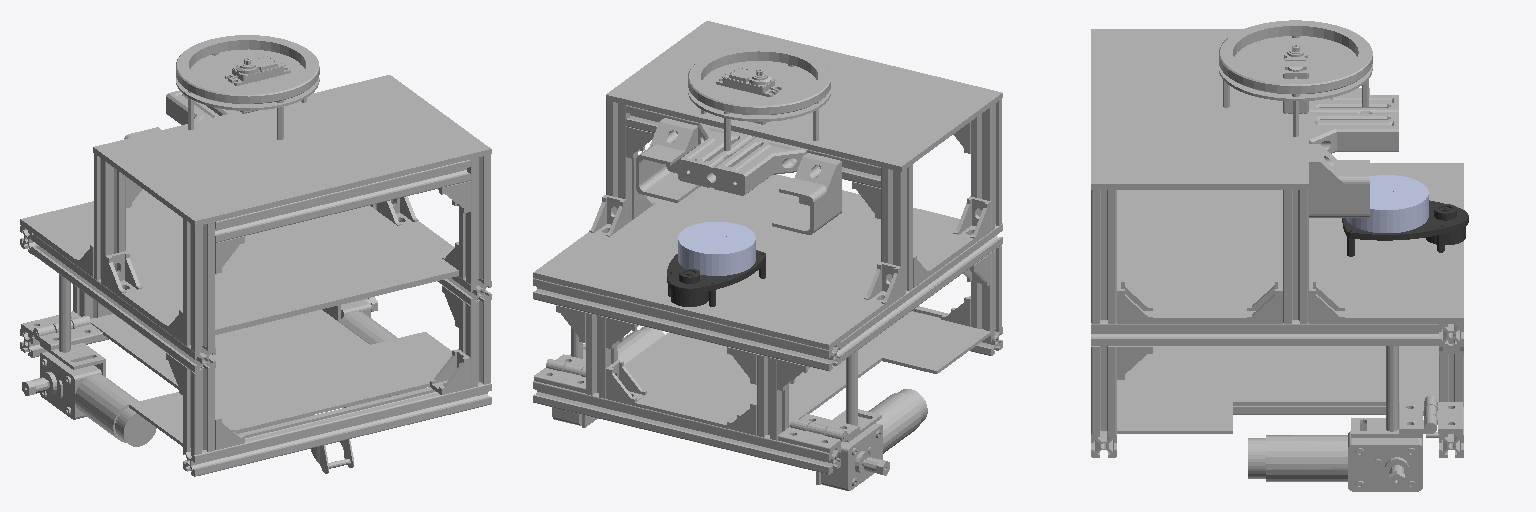
URDF robot description (tf_urdf2):
<?xml version="1.0" encoding="utf-8"?>
<!-- This URDF was automatically created by SolidWorks to URDF Exporter! Originally created by Stephen Brawner ([email redacted]) 
     Commit Version: 1.6.0-4-g7f85cfe  Build Version: 1.6.7995.38578
     For more information, please see http://wiki.ros.org/sw_urdf_exporter -->
<robot
  name="tf_urdf2">
  <link name="base_footprint"/>
  <joint name="base_joint" type="fixed">
    <parent link="base_footprint"/>
    <child link="base_link"/>
    <origin xyz="-1.23025786656509E-12 5.18846734977975E-12 7.17791849942659E-12" rpy="0 0 0" />
  </joint>
  <link
    name="base_link">
    <inertial>
      <origin
        xyz="-1.23025786656509E-12 5.18846734977975E-12 7.17791849942659E-12"
        rpy="0 0 0" />
      <mass
        value="2.12847235416398" />
      <inertia
        ixx="0.00568558429631298"
        ixy="1.5266709730259E-09"
        ixz="-5.06469082751148E-08"
        iyy="0.00660980095473277"
        iyz="-5.49851563305515E-06"
        izz="0.0118606210877818" />
    </inertial>
    <visual>
      <origin
        xyz="0 0 0"
        rpy="0 0 0" />
      <geometry>
        <mesh
          filename="package://tf_urdf2/meshes/base_link.STL" />
      </geometry>
      <material
        name="">
        <color
          rgba="0.752941176470588 0.752941176470588 0.752941176470588 1" />
      </material>
    </visual>
    <collision>
      <origin
        xyz="0 0 0"
        rpy="0 0 0" />
      <geometry>
        <mesh
          filename="package://tf_urdf2/meshes/base_link.STL" />
      </geometry>
    </collision>
  </link>
  <link
    name="base_laser_link">
    <inertial>
      <origin
        xyz="0.00287209394668812 -0.000171439245075351 -4.24955752011125E-15"
        rpy="0 0 0" />
      <mass
        value="0.368367374305662" />
      <inertia
        ixx="9.68293322754369E-05"
        ixy="1.45421516435213E-05"
        ixz="-1.17442257422505E-20"
        iyy="0.000356470305894242"
        iyz="-6.52735196393128E-21"
        izz="0.000276008992523265" />
    </inertial>
    <visual>
      <origin
        xyz="0 0 0"
        rpy="0 0 0" />
      <geometry>
        <mesh
          filename="package://tf_urdf2/meshes/base_laser_link.STL" />
      </geometry>
      <material
        name="">
        <color
          rgba="0.298039215686275 0.298039215686275 0.298039215686275 1" />
      </material>
    </visual>
    <collision>
      <origin
        xyz="0 0 0"
        rpy="0 0 0" />
      <geometry>
        <mesh
          filename="package://tf_urdf2/meshes/base_laser_link.STL" />
      </geometry>
    </collision>
  </link>
  <joint
    name="base_laser_joint"
    type="fixed">
    <origin
      xyz="-0.000131363742770744 0.0960941115400787 0.0268121154387293"
      rpy="1.5707963267949 0 1.5707963267949" />
    <parent
      link="base_link" />
    <child
      link="base_laser_link" />
    <axis
      xyz="0 0 0" />
  </joint>
  <link
    name="laser_link">
    <inertial>
      <origin
        xyz="6.27969898303604E-15 0.00994901655834555 5.59968738045313E-15"
        rpy="0 0 0" />
      <mass
        value="0.0660277715680958" />
      <inertia
        ixx="1.96156877893573E-05"
        ixy="2.30712697514792E-21"
        ixz="3.3881317890172E-21"
        iyy="3.48742138584865E-05"
        iyz="2.55774068988361E-21"
        izz="1.96156117763069E-05" />
    </inertial>
    <visual>
      <origin
        xyz="0 0 0"
        rpy="0 0 0" />
      <geometry>
        <mesh
          filename="package://tf_urdf2/meshes/laser_link.STL" />
      </geometry>
      <material
        name="">
        <color
          rgba="0.792156862745098 0.819607843137255 0.933333333333333 1" />
      </material>
    </visual>
    <collision>
      <origin
        xyz="0 0 0"
        rpy="0 0 0" />
      <geometry>
        <mesh
          filename="package://tf_urdf2/meshes/laser_link.STL" />
      </geometry>
    </collision>
  </link>
  <joint
    name="laser_joint"
    type="continuous">
    <origin
      xyz="-0.01425 0.00499999999999998 0"
      rpy="3.14159265358979 0.841141811649931 3.14159265358979" />
    <parent
      link="base_laser_link" />
    <child
      link="laser_link" />
    <axis
      xyz="0 1 0" />
  </joint>
  <!--<link
    name="camera_link">
    <inertial>
      <origin
        xyz="-3.59641705078968E-06 -8.99346677352003E-05 -0.0199626938778014"
        rpy="0 0 0" />
      <mass
        value="0.182998721477312" />
      <inertia
        ixx="3.5992273823816E-05"
        ixy="2.02108915234498E-09"
        ixz="4.50592861470096E-08"
        iyy="0.000405203076956735"
        iyz="4.47034923597135E-08"
        izz="0.000396282425929481" />
    </inertial>
    <visual>
      <origin
        xyz="0 0 0"
        rpy="0 0 0" />
      <geometry>
        <mesh
          filename="package://tf_urdf2/meshes/camera_link.STL" />
      </geometry>
      <material
        name="">
        <color
          rgba="0.752941176470588 0.752941176470588 0.752941176470588 1" />
      </material>
    </visual>
    <collision>
      <origin
        xyz="0 0 0"
        rpy="0 0 0" />
      <geometry>
        <mesh
          filename="package://tf_urdf2/meshes/camera_link.STL" />
      </geometry>
    </collision>
  </link>
  <joint
    name="camera_joint"
    type="fixed">
    <origin
      xyz="-0.000131363742774914 0.0638441115400772 0.0858121154387287"
      rpy="1.5707963267949 0 3.14159265358979" />
    <parent
      link="base_link" />
    <child
      link="camera_link" />
    <axis
      xyz="0 0 0" />
  </joint>
  <link
    name="left_wheel_link">
    <inertial>
      <origin
        xyz="-0.0150496497452622 -1.96331145785322E-12 2.77555756156289E-16"
        rpy="0 0 0" />
      <mass
        value="0.0895053073671552" />
      <inertia
        ixx="0.000104006422478187"
        ixy="7.89419753183192E-16"
        ixz="4.3658717399168E-20"
        iyy="5.80082032825445E-05"
        iyz="9.78351853198924E-16"
        izz="5.80082032677947E-05" />
    </inertial>
    <visual>
      <origin
        xyz="0 0 0"
        rpy="0 0 0" />
      <geometry>
        <mesh
          filename="package://tf_urdf2/meshes/left_wheel_link.STL" />
      </geometry>
      <material
        name="">
        <color
          rgba="0.250980392156863 0.250980392156863 0.250980392156863 1" />
      </material>
    </visual>
    <collision>
      <origin
        xyz="0 0 0"
        rpy="0 0 0" />
      <geometry>
        <mesh
          filename="package://tf_urdf2/meshes/left_wheel_link.STL" />
      </geometry>
    </collision>
  </link>
  <joint
    name="left_wheel_joint"
    type="continuous">
    <origin
      xyz="-0.154631363742771 0.0895941115400787 -0.11818788456127"
      rpy="0.848490512040727 0 0" />
    <parent
      link="base_link" />
    <child
      link="left_wheel_link" />
    <axis
      xyz="1 0 0" />
  </joint>
  <link
    name="right_wheel_link">
    <inertial>
      <origin
        xyz="-0.0150496497452583 -1.9614865287565E-12 -1.24206200879939E-15"
        rpy="0 0 0" />
      <mass
        value="0.0895053073671553" />
      <inertia
        ixx="0.000104006422478187"
        ixy="7.89524586002435E-16"
        ixz="-4.26639638785426E-20"
        iyy="5.80082032825446E-05"
        iyz="9.78333218474084E-16"
        izz="5.80082032677947E-05" />
    </inertial>
    <visual>
      <origin
        xyz="0 0 0"
        rpy="0 0 0" />
      <geometry>
        <mesh
          filename="package://tf_urdf2/meshes/right_wheel_link.STL" />
      </geometry>
      <material
        name="">
        <color
          rgba="0.250980392156863 0.250980392156863 0.250980392156863 1" />
      </material>
    </visual>
    <collision>
      <origin
        xyz="0 0 0"
        rpy="0 0 0" />
      <geometry>
        <mesh
          filename="package://tf_urdf2/meshes/right_wheel_link.STL" />
      </geometry>
    </collision>
  </link>
  <joint
    name="right_wheel_joint"
    type="continuous">
    <origin
      xyz="0.154368636257235 0.0895941115400792 -0.118187884561269"
      rpy="0.537102295661347 0 3.14159265358979" />
    <parent
      link="base_link" />
    <child
      link="right_wheel_link" />
    <axis
      xyz="1 0 0" />
  </joint>
  <link
    name="arm_1_link">
    <inertial>
      <origin
        xyz="-0.00304007438065856 0.0196164335046979 -0.00291517433010096"
        rpy="0 0 0" />
      <mass
        value="0.102309676287535" />
      <inertia
        ixx="5.8527733760858E-05"
        ixy="-1.83034149313203E-07"
        ixz="-5.8553418327819E-07"
        iyy="0.000109918724976135"
        iyz="3.63049047085068E-07"
        izz="5.95682017970688E-05" />
    </inertial>
    <visual>
      <origin
        xyz="0 0 0"
        rpy="0 0 0" />
      <geometry>
        <mesh
          filename="package://tf_urdf2/meshes/arm_1_link.STL" />
      </geometry>
      <material
        name="">
        <color
          rgba="0.752941176470588 0.752941176470588 0.752941176470588 1" />
      </material>
    </visual>
    <collision>
      <origin
        xyz="0 0 0"
        rpy="0 0 0" />
      <geometry>
        <mesh
          filename="package://tf_urdf2/meshes/arm_1_link.STL" />
      </geometry>
    </collision>
  </link>
  <joint
    name="arm_1_joint"
    type="revolute">
    <origin
      xyz="-0.000131363742783178 0.0108441115400749 0.163312115438725"
      rpy="1.57079632679492 0 1.96777674022887" />
    <parent
      link="base_link" />
    <child
      link="arm_1_link" />
    <axis
      xyz="0 1 0" />
    <limit
      lower="-1.57"
      upper="1.57"
      effort="10"
      velocity="100" />
  </joint>
  <link
    name="arm_2_link">
    <inertial>
      <origin
        xyz="-0.00136241892712764 0.076000000000004 0.00324974749159981"
        rpy="0 0 0" />
      <mass
        value="0.0731866074343533" />
      <inertia
        ixx="4.80073815600739E-05"
        ixy="-1.00851028100145E-08"
        ixz="8.91994561566115E-06"
        iyy="3.20760640864426E-05"
        iyz="2.40557713637902E-08"
        izz="3.04704178358831E-05" />
    </inertial>
    <visual>
      <origin
        xyz="0 0 0"
        rpy="0 0 0" />
      <geometry>
        <mesh
          filename="package://tf_urdf2/meshes/arm_2_link.STL" />
      </geometry>
      <material
        name="">
        <color
          rgba="0.752941176470588 0.752941176470588 0.752941176470588 1" />
      </material>
    </visual>
    <collision>
      <origin
        xyz="0 0 0"
        rpy="0 0 0" />
      <geometry>
        <mesh
          filename="package://tf_urdf2/meshes/arm_2_link.STL" />
      </geometry>
    </collision>
  </link>
  <joint
    name="arm_2_joint"
    type="revolute">
    <origin
      xyz="0.000571784258836153 0.0325000000000035 0.000239713915631105"
      rpy="0 0 0" />
    <parent
      link="arm_1_link" />
    <child
      link="arm_2_link" />
    <axis
      xyz="0.38663534779315 0 -0.922232675541736" />
    <limit
      lower="-1.57"
      upper="1.57"
      effort="10"
      velocity="100" />
  </joint>
  <link
    name="arm_3_link">
    <inertial>
      <origin
        xyz="-0.0025815323539943 0.0524015938949764 0.000939181123807713"
        rpy="0 0 0" />
      <mass
        value="0.103604281318284" />
      <inertia
        ixx="3.85881019869448E-05"
        ixy="-4.80398959246596E-07"
        ixz="5.05895937622422E-06"
        iyy="2.28862112756691E-05"
        iyz="-1.44453368102442E-07"
        izz="2.97794535051696E-05" />
    </inertial>
    <visual>
      <origin
        xyz="0 0 0"
        rpy="0 0 0" />
      <geometry>
        <mesh
          filename="package://tf_urdf2/meshes/arm_3_link.STL" />
      </geometry>
      <material
        name="">
        <color
          rgba="0.752941176470588 0.752941176470588 0.752941176470588 1" />
      </material>
    </visual>
    <collision>
      <origin
        xyz="0 0 0"
        rpy="0 0 0" />
      <geometry>
        <mesh
          filename="package://tf_urdf2/meshes/arm_3_link.STL" />
      </geometry>
    </collision>
  </link>
  <joint
    name="arm_3_joint"
    type="revolute">
    <origin
      xyz="0 0.151999999999983 0"
      rpy="0 0 0" />
    <parent
      link="arm_2_link" />
    <child
      link="arm_3_link" />
    <axis
      xyz="0.38663534779314 0 -0.922232675541741" />
    <limit
      lower="-1.57"
      upper="1.57"
      effort="10"
      velocity="100" />
  </joint>
  <link
    name="arm_4_link">
    <inertial>
      <origin
        xyz="-0.00101187421643466 0.0375011786552923 -0.00366708118075301"
        rpy="0 0 0" />
      <mass
        value="0.0995665365644681" />
      <inertia
        ixx="2.11129356918354E-05"
        ixy="-8.60509446438974E-08"
        ixz="2.61664430380233E-06"
        iyy="1.51148952678042E-05"
        iyz="-3.60758613100859E-08"
        izz="1.71059723390192E-05" />
    </inertial>
    <visual>
      <origin
        xyz="0 0 0"
        rpy="0 0 0" />
      <geometry>
        <mesh
          filename="package://tf_urdf2/meshes/arm_4_link.STL" />
      </geometry>
      <material
        name="">
        <color
          rgba="0.752941176470588 0.752941176470588 0.752941176470588 1" />
      </material>
    </visual>
    <collision>
      <origin
        xyz="0 0 0"
        rpy="0 0 0" />
      <geometry>
        <mesh
          filename="package://tf_urdf2/meshes/arm_4_link.STL" />
      </geometry>
    </collision>
  </link>
  <joint
    name="arm_4_joint"
    type="revolute">
    <origin
      xyz="0 0.146400000000001 0"
      rpy="0 0 0" />
    <parent
      link="arm_3_link" />
    <child
      link="arm_4_link" />
    <axis
      xyz="0.386635347793163 0 -0.922232675541731" />
    <limit
      lower="-1.57"
      upper="1.57"
      effort="10"
      velocity="100" />
  </joint>
  <link
    name="arm_5_link">
    <inertial>
      <origin
        xyz="-0.00868940066621744 0.0276881875406733 -0.0253003256747634"
        rpy="0 0 0" />
      <mass
        value="0.0375612763588537" />
      <inertia
        ixx="6.51328883590984E-06"
        ixy="4.82424647091232E-09"
        ixz="1.70111532974576E-06"
        iyy="6.4324842128533E-06"
        iyz="-9.59387279797009E-09"
        izz="2.95122651270559E-06" />
    </inertial>
    <visual>
      <origin
        xyz="0 0 0"
        rpy="0 0 0" />
      <geometry>
        <mesh
          filename="package://tf_urdf2/meshes/arm_5_link.STL" />
      </geometry>
      <material
        name="">
        <color
          rgba="0.752941176470588 0.752941176470588 0.752941176470588 1" />
      </material>
    </visual>
    <collision>
      <origin
        xyz="0 0 0"
        rpy="0 0 0" />
      <geometry>
        <mesh
          filename="package://tf_urdf2/meshes/arm_5_link.STL" />
      </geometry>
    </collision>
  </link>
  <joint
    name="arm_5_joint"
    type="revolute">
    <origin
      xyz="0.000560909226379237 0.0911499999999666 0.00281042669881565"
      rpy="-3.14159265358977 0 3.14159265358978" />
    <parent
      link="arm_4_link" />
    <child
      link="arm_5_link" />
    <axis
      xyz="0 1 0" />
    <limit
      lower="-1.57"
      upper="1.57"
      effort="10"
      velocity="100" />
  </joint>
  <link
    name="gripper_1_link">
    <inertial>
      <origin
        xyz="0.000163480467066018 -0.00403983489132131 0.00336463442592227"
        rpy="0 0 0" />
      <mass
        value="0.00233893532260201" />
      <inertia
        ixx="2.44085104510111E-07"
        ixy="-4.91339632397839E-09"
        ixz="5.10119347440217E-24"
        iyy="7.71995240696251E-08"
        iyz="3.34454387034296E-22"
        izz="3.1839756504268E-07" />
    </inertial>
    <visual>
      <origin
        xyz="0 0 0"
        rpy="0 0 0" />
      <geometry>
        <mesh
          filename="package://tf_urdf2/meshes/gripper_1_link.STL" />
      </geometry>
      <material
        name="">
        <color
          rgba="0.792156862745098 0.819607843137255 0.933333333333333 1" />
      </material>
    </visual>
    <collision>
      <origin
        xyz="0 0 0"
        rpy="0 0 0" />
      <geometry>
        <mesh
          filename="package://tf_urdf2/meshes/gripper_1_link.STL" />
      </geometry>
    </collision>
  </link>
  <joint
    name="gripper_1_joint"
    type="revolute">
    <origin
      xyz="0.0068104 0.0295 -0.011783"
      rpy="0.63968 -1.068 2.4376" />
    <parent
      link="arm_5_link" />
    <child
      link="gripper_1_link" />
    <axis
      xyz="0 0 1" />
    <limit
      lower="-1.57"
      upper="1.57"
      effort="10"
      velocity="100" />
  </joint>
  <link
    name="caster_link">
    <inertial>
      <origin
        xyz="0.0040842184642891 -1.66533453693773E-16 -2.77555756156289E-17"
        rpy="0 0 0" />
      <mass
        value="0.01152385226836" />
      <inertia
        ixx="2.43995864492354E-06"
        ixy="-1.61796527815372E-21"
        ixz="6.56161020907689E-22"
        iyy="1.40033256895839E-06"
        iyz="-1.19114008207636E-21"
        izz="1.40033256895839E-06" />
    </inertial>
    <visual>
      <origin
        xyz="0 0 0"
        rpy="0 0 0" />
      <geometry>
        <mesh
          filename="package://tf_urdf2/meshes/caster_link.STL" />
      </geometry>
      <material
        name="">
        <color
          rgba="1 1 1 1" />
      </material>
    </visual>
    <collision>
      <origin
        xyz="0 0 0"
        rpy="0 0 0" />
      <geometry>
        <mesh
          filename="package://tf_urdf2/meshes/caster_link.STL" />
      </geometry>
    </collision>
  </link>
  <joint
    name="caster_joint"
    type="continuous">
    <origin
      xyz="-0.0047951 -0.14001 -0.13319"
      rpy="3.1007 0 -0.034236" />
    <parent
      link="base_link" />
    <child
      link="caster_link" />
    <axis
      xyz="1 0 0" />
  </joint>-->
</robot>

--- Facts derived from the render (not from the file) ---
Views: 3 orthographic renders of the robot side by side, from view 1: azimuth 30°, elevation 25°; view 2: azimuth 150°, elevation 25°; view 3: azimuth 270°, elevation 25°.
Robot: tf_urdf2 — 4 links, 3 joints (1 continuous, 2 fixed); root link base_footprint; default pose: all joints at 0.
Links seen in each view (by area): view 1: base_link; view 2: base_link, laser_link, base_laser_link; view 3: base_link, laser_link, base_laser_link.
Boxes of the visible links, x1,y1,x2,y2 form: base_link: (20,35,491,476); base_link: (533,21,1002,490); laser_link: (678,222,755,275); base_laser_link: (667,250,765,306); base_link: (1091,20,1463,491); laser_link: (1346,175,1428,232); base_laser_link: (1342,200,1468,256).
Size in the robot's own frame: 0.335 by 0.2935 by 0.3165 metres.
3 mesh visuals loaded from 3 distinct referenced files (3 binary STL).
